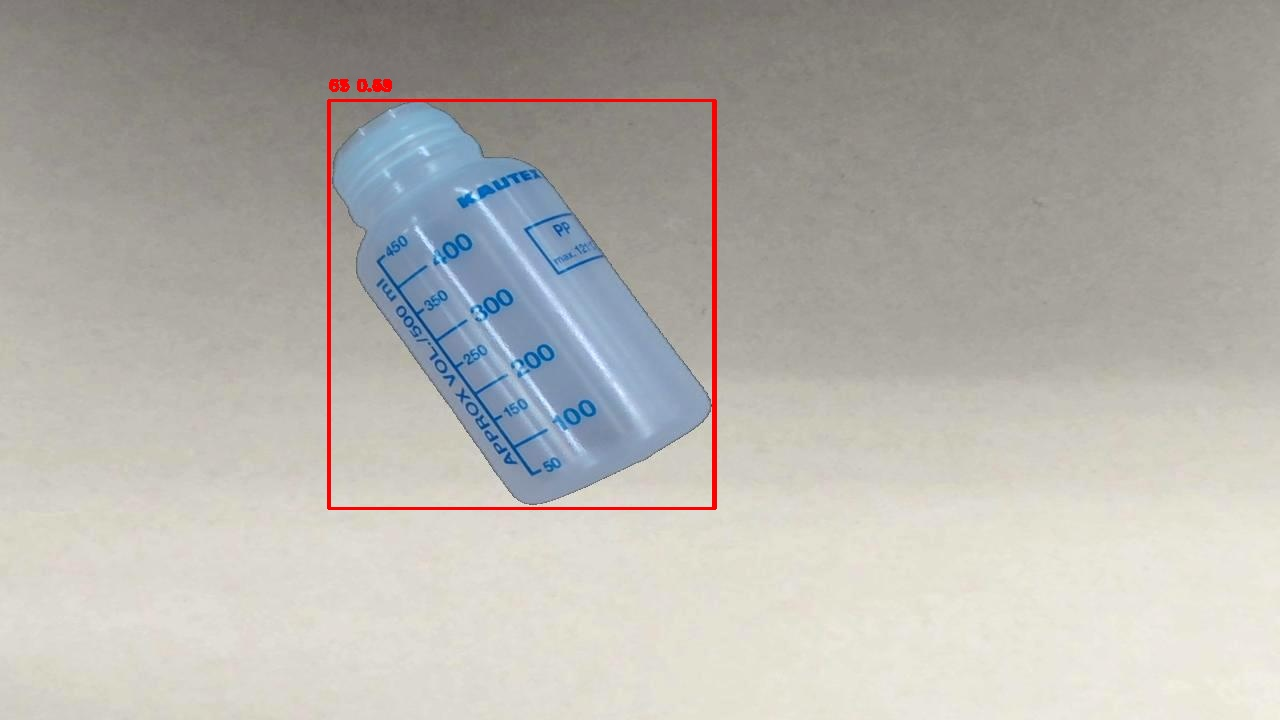cup: (329, 100, 715, 508), (328, 100, 713, 508)
